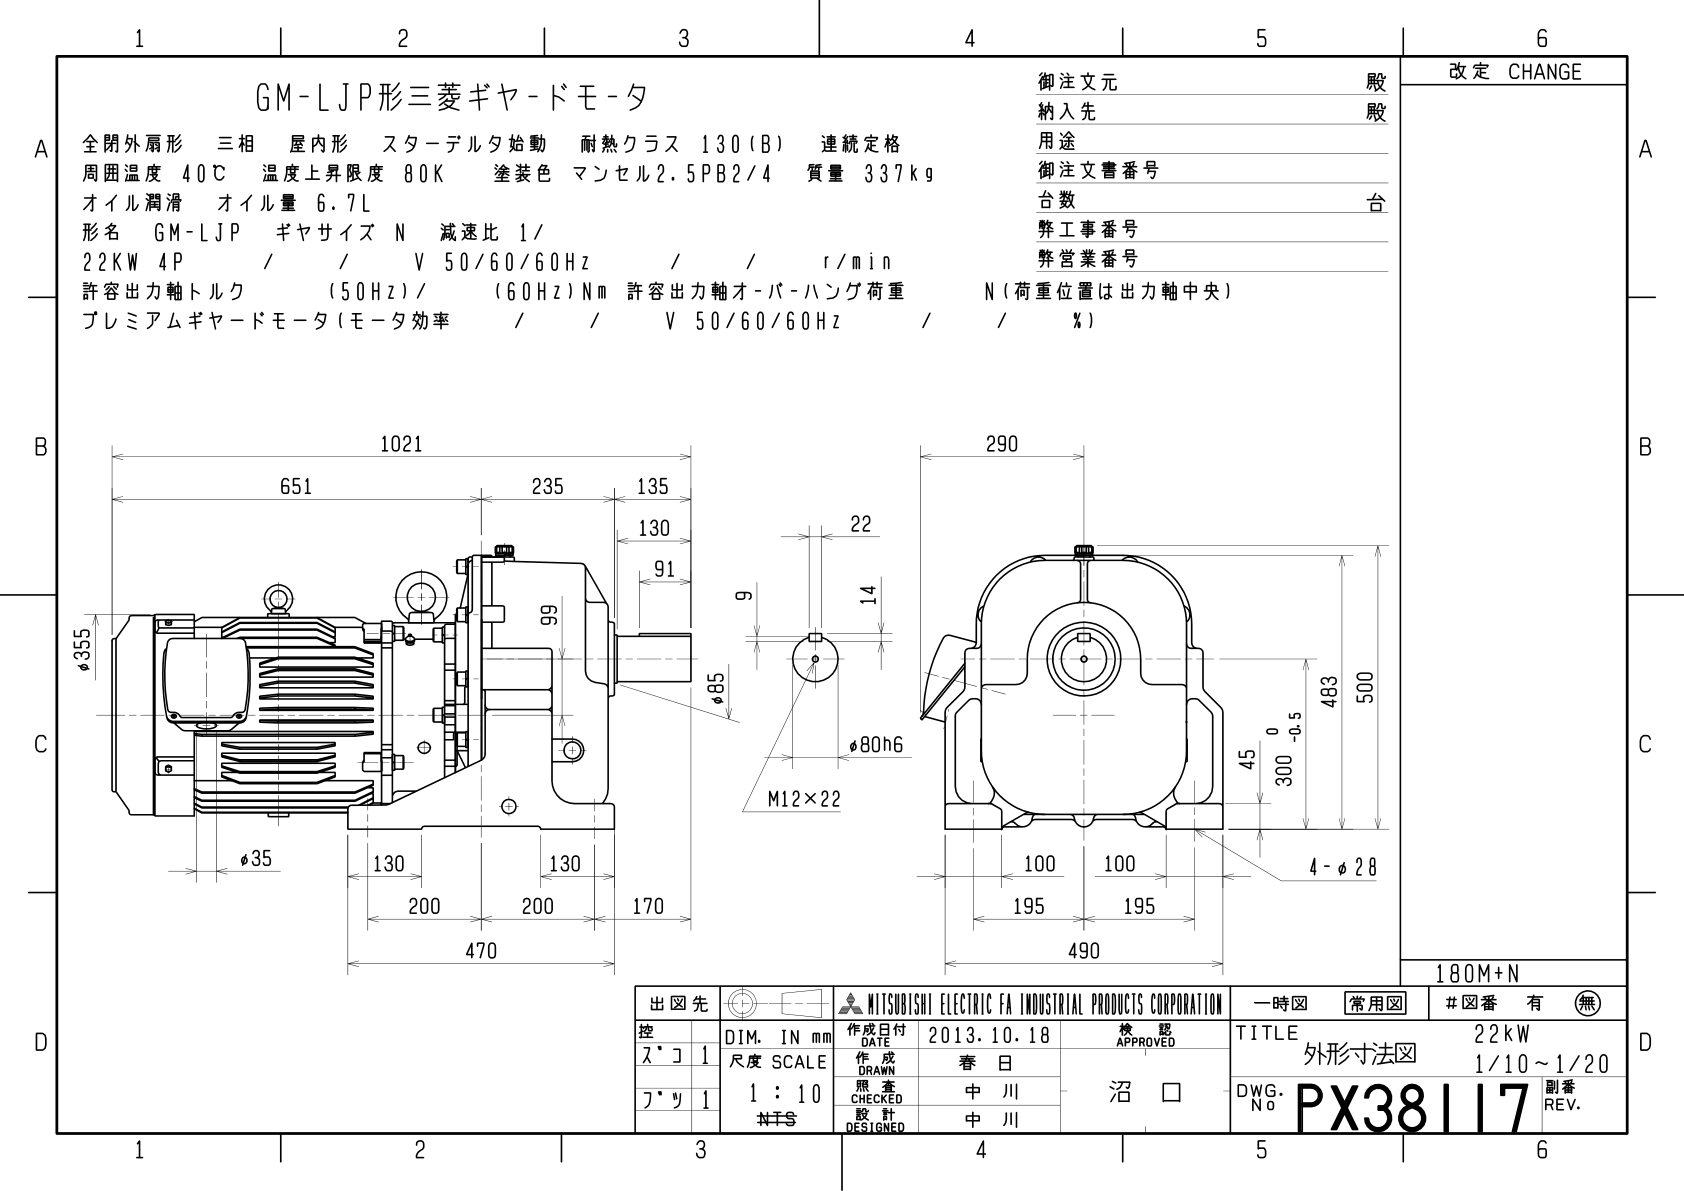GM_LJP_屋内_三相_脚: (64, 409, 1392, 980)
